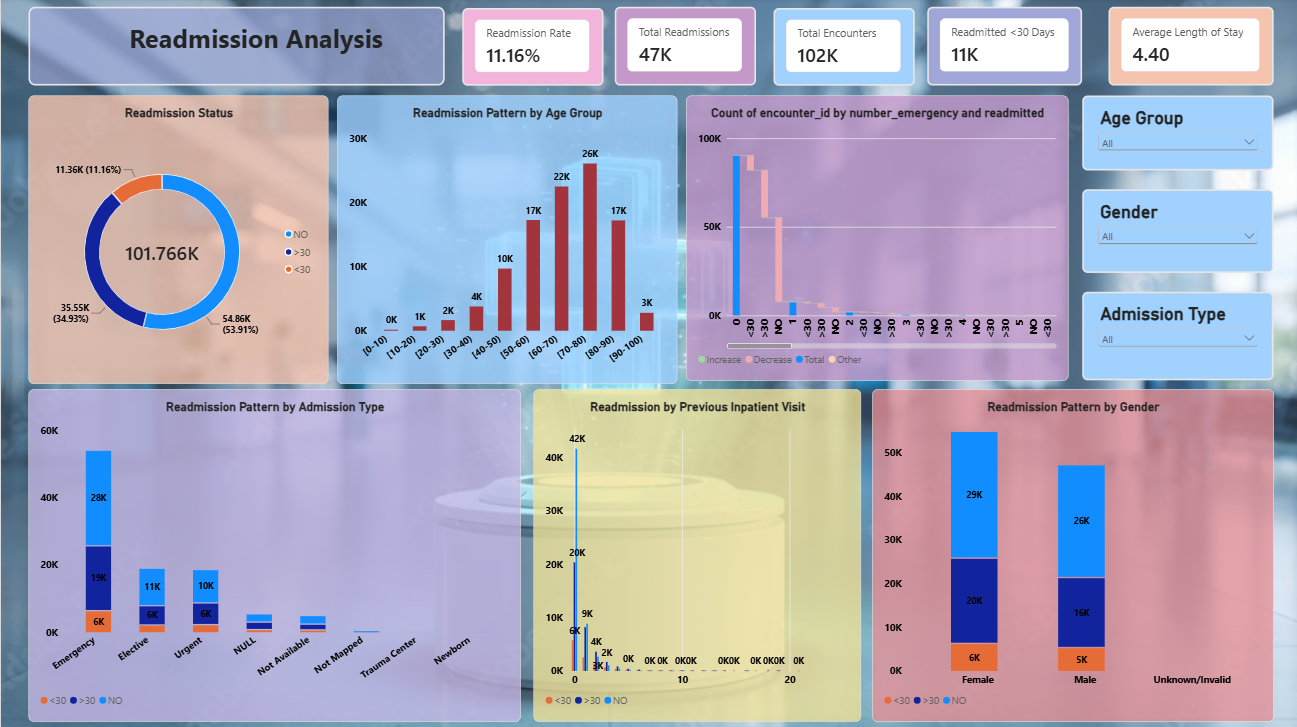

What the dashboard file says about the page in this screenshot:
{"tool":"powerbi","page":{"name":"Readmission Analysis","canvas":[1920,1080],"ordinal":3},"visuals":[{"type":"textbox","box":[40.5,12.9,612.9,116],"z":0},{"type":"cardVisual","fields":{"Data":["diabetic_data.Total Encounters"]},"box":[1137.4,14.7,208,114.1],"z":1000},{"type":"cardVisual","fields":{"Data":["diabetic_data.Readmitted <30 Days"]},"box":[1363.8,12.9,228.2,116],"z":2000},{"type":"cardVisual","fields":{"Data":["diabetic_data.Total Readmissions"]},"box":[903.7,12.9,208,116],"z":3000},{"type":"cardVisual","fields":{"Data":["diabetic_data.Readmission Rate"]},"box":[679.1,14.7,208,114.1],"z":4000},{"type":"cardVisual","fields":{"Data":["diabetic_data.Average Length of Stay"]},"box":[1630.7,12.9,242.9,116],"z":5000},{"type":"donutChart","title":"Readmission Status","fields":{"Category":["diabetic_data.readmitted"],"Y":["CountNonNull(diabetic_data.encounter_id)"]},"box":[40.5,143.6,441.7,425.2],"z":6000},{"type":"columnChart","title":"Readmission Pattern by Age Group","fields":{"Category":["Dim_Age.age"],"Y":["CountNonNull(diabetic_data.encounter_id)"]},"box":[495.1,143.6,500.6,425.2],"z":7000},{"type":"columnChart","title":"Readmission Pattern by Gender","fields":{"Category":["diabetic_data.gender"],"Series":["diabetic_data.readmitted"],"Y":["CountNonNull(diabetic_data.encounter_id)"]},"box":[1282.8,576.1,590.8,489.6],"z":8000},{"type":"columnChart","title":"Readmission Pattern by Admission Type","fields":{"Category":["Dim_Admission_Type.admission_type"],"Series":["diabetic_data.readmitted"],"Y":["CountNonNull(diabetic_data.encounter_id)"]},"box":[40.5,576.1,725.2,489.6],"z":9000},{"type":"clusteredColumnChart","title":"Readmission by Previous Inpatient Visit","fields":{"Category":["diabetic_data.number_inpatient"],"Series":["diabetic_data.readmitted"],"Y":["CountNonNull(diabetic_data.encounter_id)"]},"box":[784.1,576.1,482.2,489.6],"z":10000},{"type":"waterfallChart","fields":{"Breakdown":["diabetic_data.readmitted"],"Category":["diabetic_data.number_emergency"],"Y":["CountNonNull(diabetic_data.encounter_id)"]},"box":[1008.6,143.6,563.2,419.6],"z":11000},{"type":"slicer","fields":{"Values":["Dim_Age.age"]},"box":[1592,143.6,281.6,110.4],"z":12000},{"type":"slicer","fields":{"Values":["diabetic_data.gender"]},"box":[1592,281.6,281.6,123.3],"z":13000},{"type":"slicer","fields":{"Values":["Dim_Admission_Type.admission_type"]},"box":[1592,432.5,281.6,130.7],"z":14000}]}

Visuals, with their boxes in screenshot pixels (x1, y1, x2, y2), scaled from the page's 1920x1080 canvas onto the 1297x727 screenshot:
textbox: 27:9:441:87
cardVisual - diabetic_data.Total Encounters: 768:10:909:87
cardVisual - diabetic_data.Readmitted <30 Days: 921:9:1075:87
cardVisual - diabetic_data.Total Readmissions: 610:9:751:87
cardVisual - diabetic_data.Readmission Rate: 459:10:599:87
cardVisual - diabetic_data.Average Length of Stay: 1102:9:1266:87
"Readmission Status" donutChart: 27:97:326:383
"Readmission Pattern by Age Group" columnChart: 334:97:673:383
"Readmission Pattern by Gender" columnChart: 867:388:1266:717
"Readmission Pattern by Admission Type" columnChart: 27:388:517:717
"Readmission by Previous Inpatient Visit" clusteredColumnChart: 530:388:855:717
waterfallChart - diabetic_data.readmitted x diabetic_data.number_emergency: 681:97:1062:379
slicer - Dim_Age.age: 1075:97:1266:171
slicer - diabetic_data.gender: 1075:190:1266:273
slicer - Dim_Admission_Type.admission_type: 1075:291:1266:379
